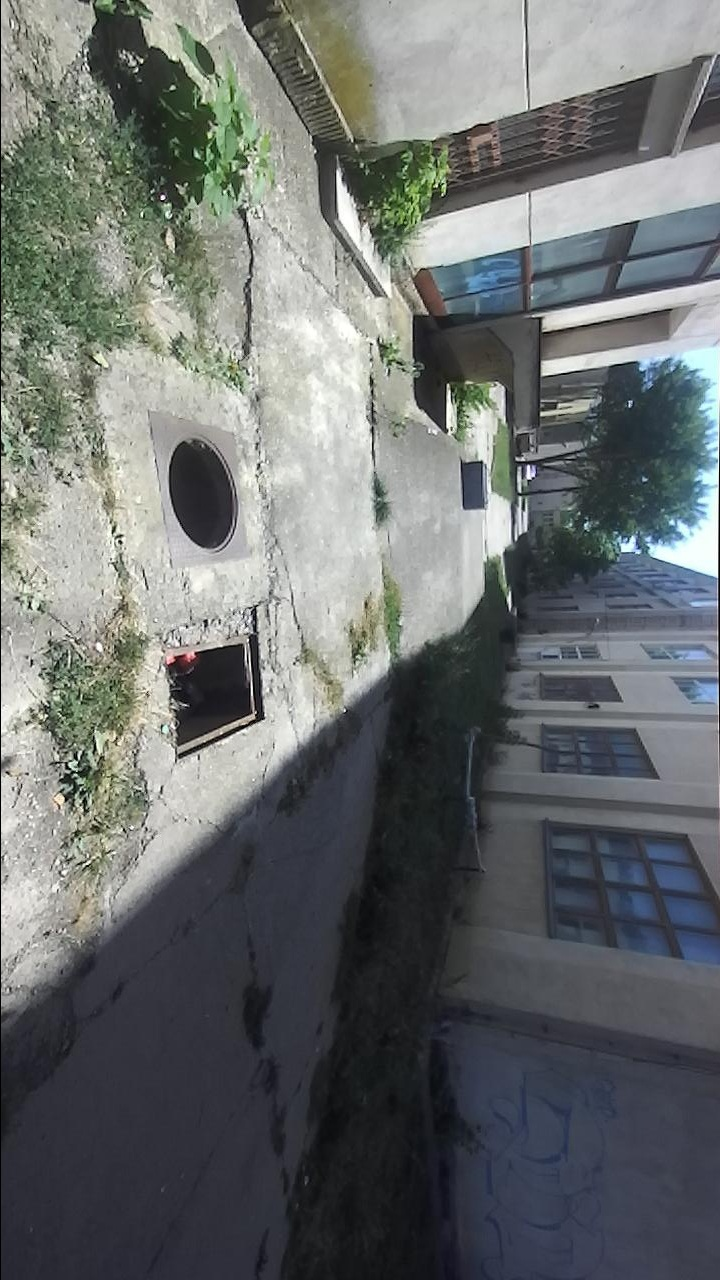drain: (165, 624, 268, 769), (164, 436, 238, 560)
